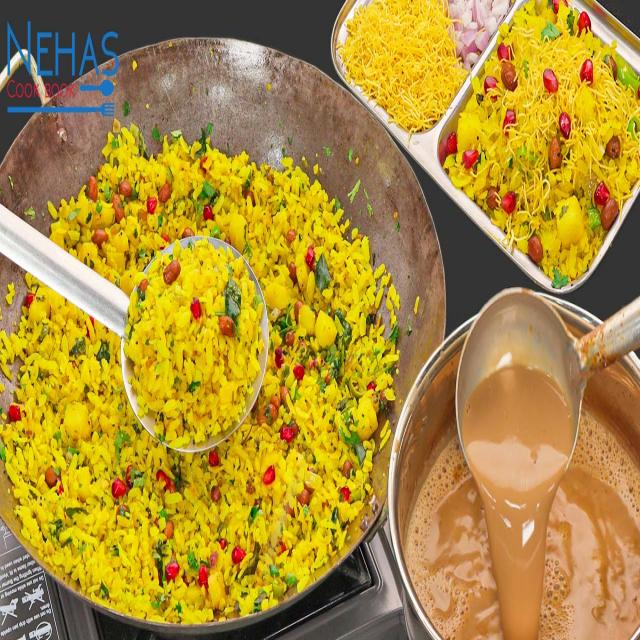POHA: (0, 121, 400, 623)
